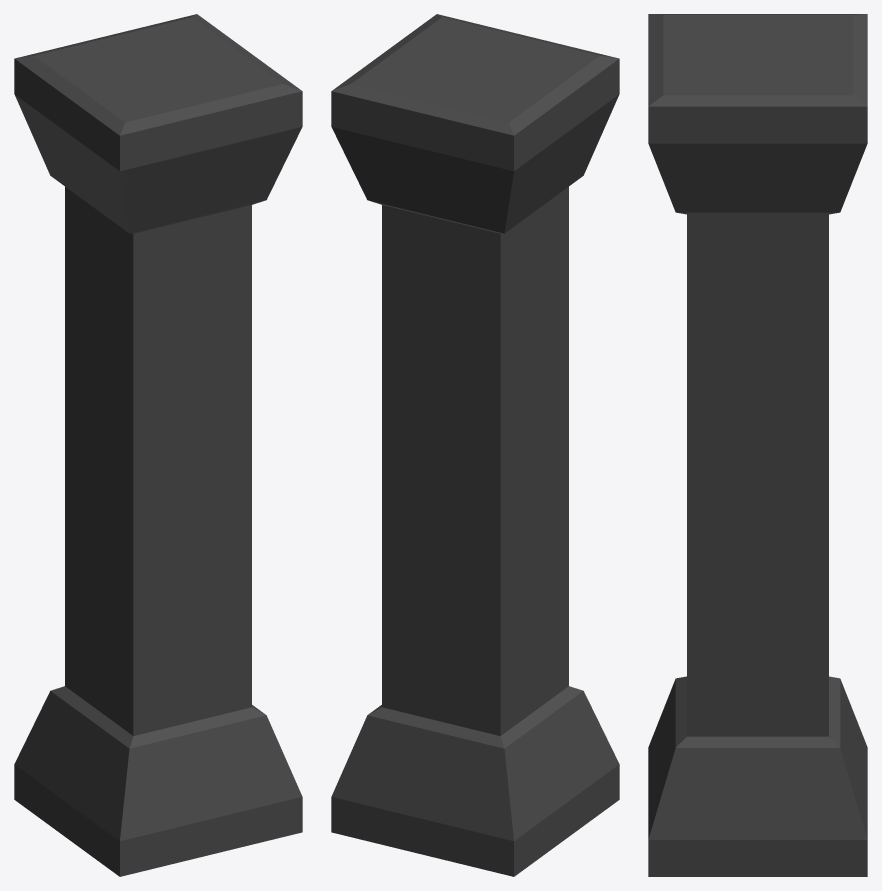
File: Pillar.fbx
The picture shows the model from 3 angles, left to right: view 1: azimuth 30°, elevation 25°; view 2: azimuth 150°, elevation 25°; view 3: azimuth 270°, elevation 25°; orthographic projection. The views are drawn at different scales.
Parts seen in each view (by area): view 1: StonePiller; view 2: StonePiller; view 3: StonePiller.
Part boxes in pixels (x1,y1,x2,y2): StonePiller: [14, 14, 302, 876]; StonePiller: [331, 14, 619, 876]; StonePiller: [648, 14, 867, 876].
Bounding box in the file's own units: 0.4153 × 1.63 × 0.4153.
Materials: 1 (1 with a texture image).
